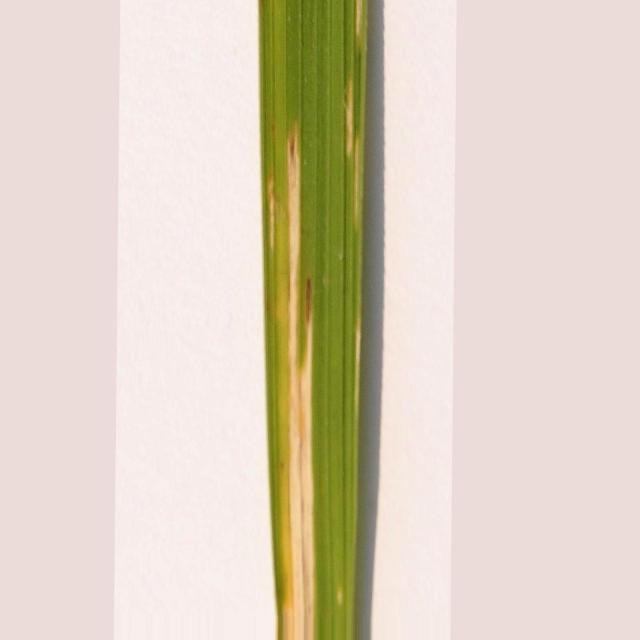Brown_Spot: (260, 0, 368, 640)
